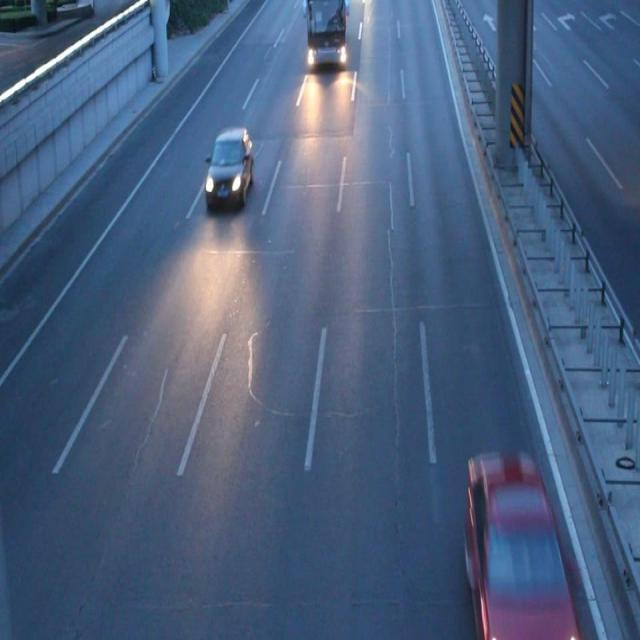car: (462, 454, 580, 640), (205, 127, 253, 211)
van: (303, 1, 348, 70)
